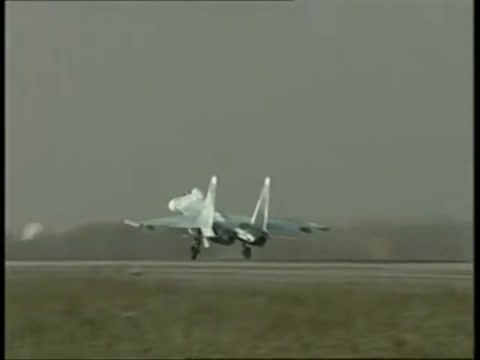aeroplane: (124, 176, 331, 261)
